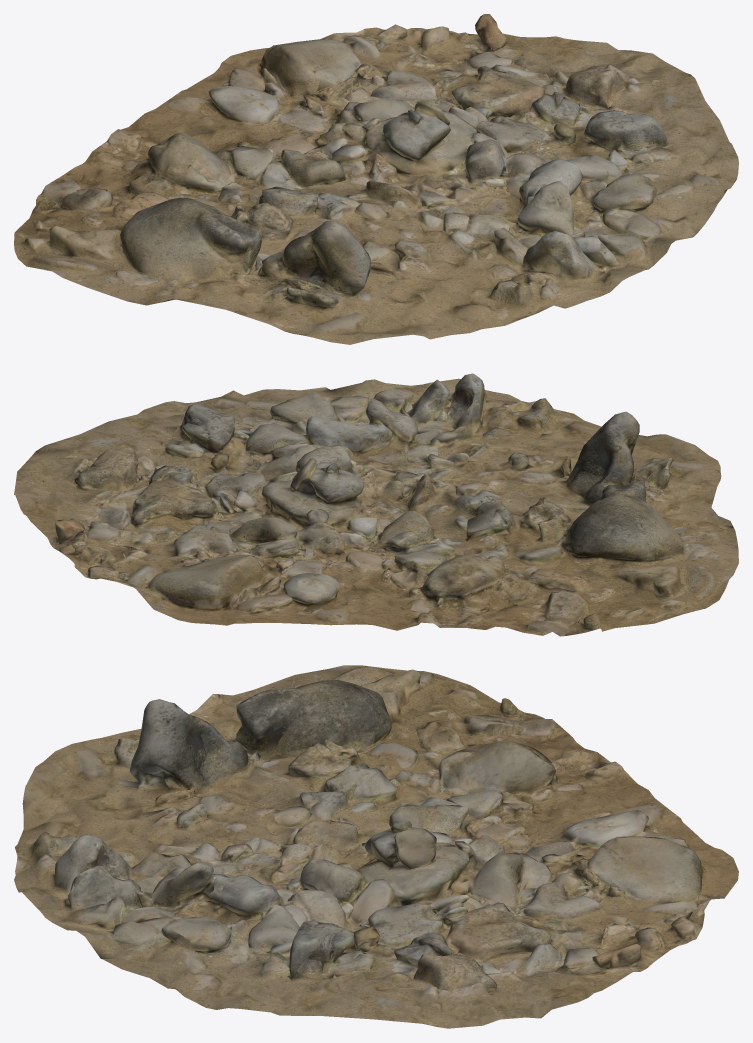
File: beach-pebble-patch.glb
3 views of the same model, one above another, from view 1: azimuth 30°, elevation 25°; view 2: azimuth 150°, elevation 25°; view 3: azimuth 270°, elevation 25° (orthographic). The views are drawn at different scales.
Parts seen in each view (by area): view 1: sand_rocks_small_01_LOD0; view 2: sand_rocks_small_01_LOD0; view 3: sand_rocks_small_01_LOD0.
Boxes of the visible parts, box(x1,y1,x2,y2) form: sand_rocks_small_01_LOD0: box(14, 14, 738, 344); sand_rocks_small_01_LOD0: box(14, 373, 738, 636); sand_rocks_small_01_LOD0: box(14, 665, 738, 1028).
Bounding box in the file's own units: 4.63 × 0.533 × 3.88.
1 material, 1 textured.
